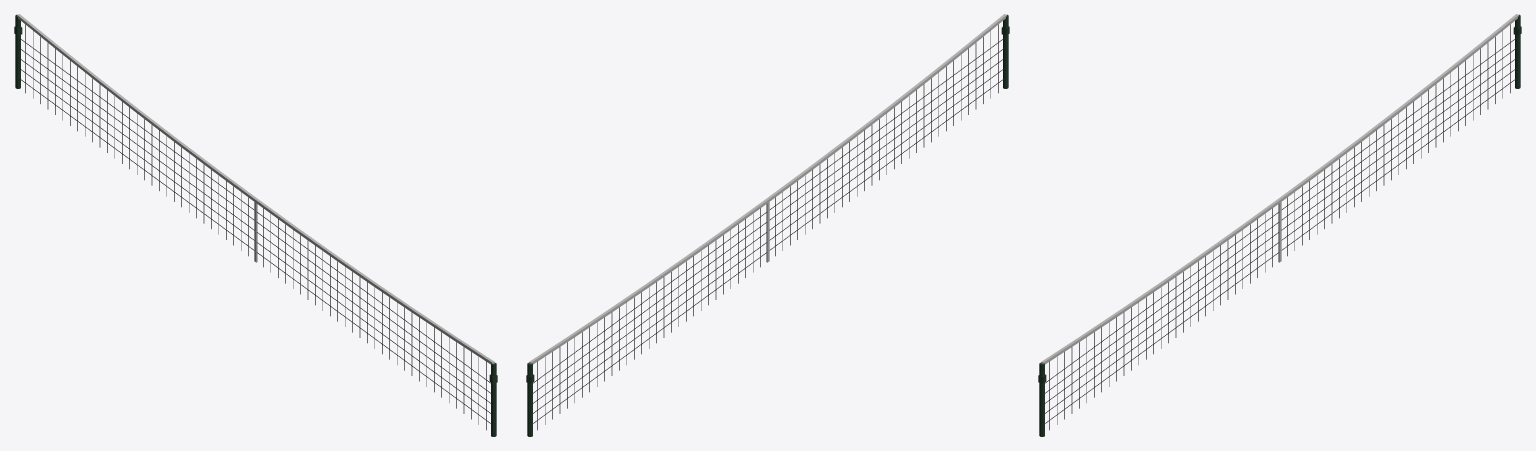
Rendered from SM_Prop_tennis_net_0.glb.
3 renders of one model, left to right at view 1: azimuth 30°, elevation 25°; view 2: azimuth 150°, elevation 25°; view 3: azimuth 330°, elevation 25°, orthographic.
Visible parts, largest first — view 1: SM_Prop_tennis_net_0; view 2: SM_Prop_tennis_net_0; view 3: SM_Prop_tennis_net_0.
Part boxes in pixels (<box>): SM_Prop_tennis_net_0: <box>14,14,497,436</box>; SM_Prop_tennis_net_0: <box>526,14,1009,436</box>; SM_Prop_tennis_net_0: <box>1038,14,1521,436</box>.
Size of the model in its own units: 0.08 by 1.09 by 12.88.
